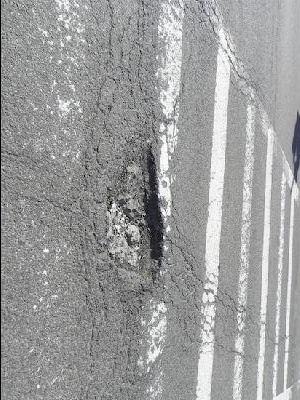pothole: (101, 134, 167, 312)
